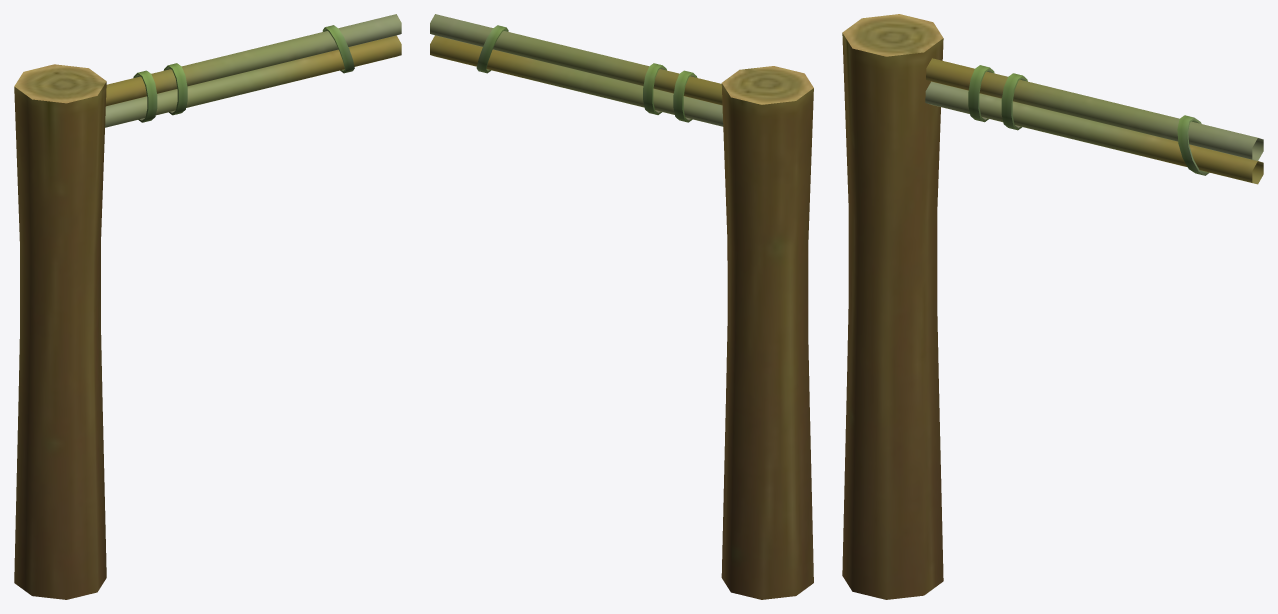
Rendered from menkuang.fbx.
The picture shows the model from 3 angles, left to right: view 1: azimuth 30°, elevation 25°; view 2: azimuth 150°, elevation 25°; view 3: azimuth 330°, elevation 25°; orthographic projection. The views are drawn at different scales.
Visible parts, largest first — view 1: menkuang; view 2: menkuang; view 3: menkuang.
Part boxes in pixels (<box>): menkuang: <box>14,14,401,599</box>; menkuang: <box>430,14,813,599</box>; menkuang: <box>842,14,1263,599</box>.
Size of the model in its own units: 1.32 by 1.69 by 0.2652.
